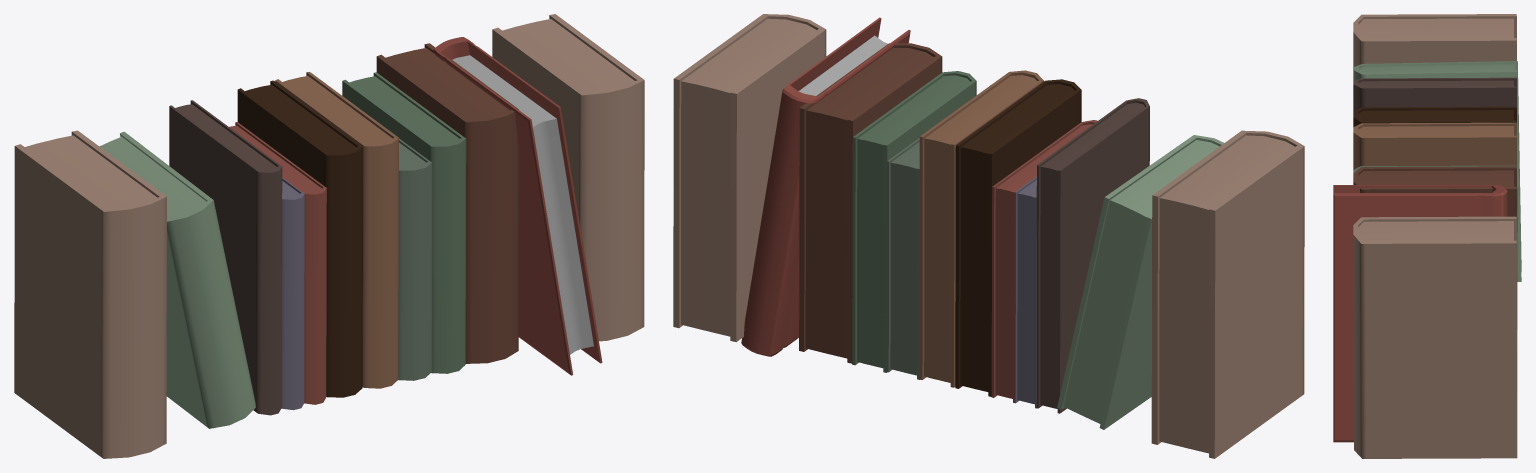
File: Livres.fbx
The picture shows the model from 3 angles, left to right: view 1: azimuth 30°, elevation 25°; view 2: azimuth 150°, elevation 25°; view 3: azimuth 270°, elevation 25°; orthographic projection. The views are drawn at different scales.
Parts seen in each view (by area): view 1: polySurface16; view 2: polySurface16; view 3: polySurface16.
Boxes of the visible parts, x1,y1,x2,y2 form: polySurface16: (14, 14, 644, 458); polySurface16: (673, 14, 1304, 458); polySurface16: (1333, 14, 1521, 458).
Bounding box in the file's own units: 5.53 × 2.65 × 1.92.
